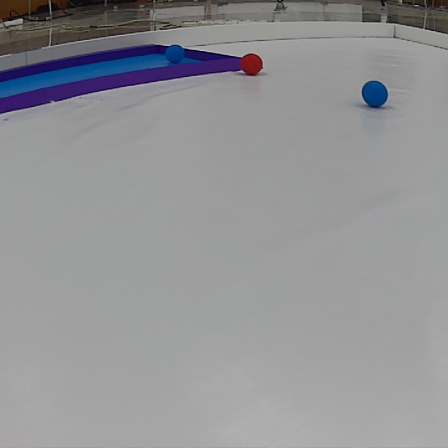blue: (360, 76, 391, 106), (167, 41, 185, 65)
blue_aim: (3, 40, 245, 115)
red: (237, 51, 266, 78)
